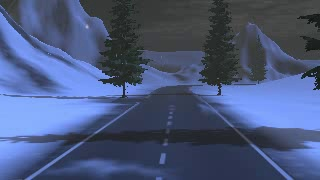Lane: (29, 85, 292, 179)
